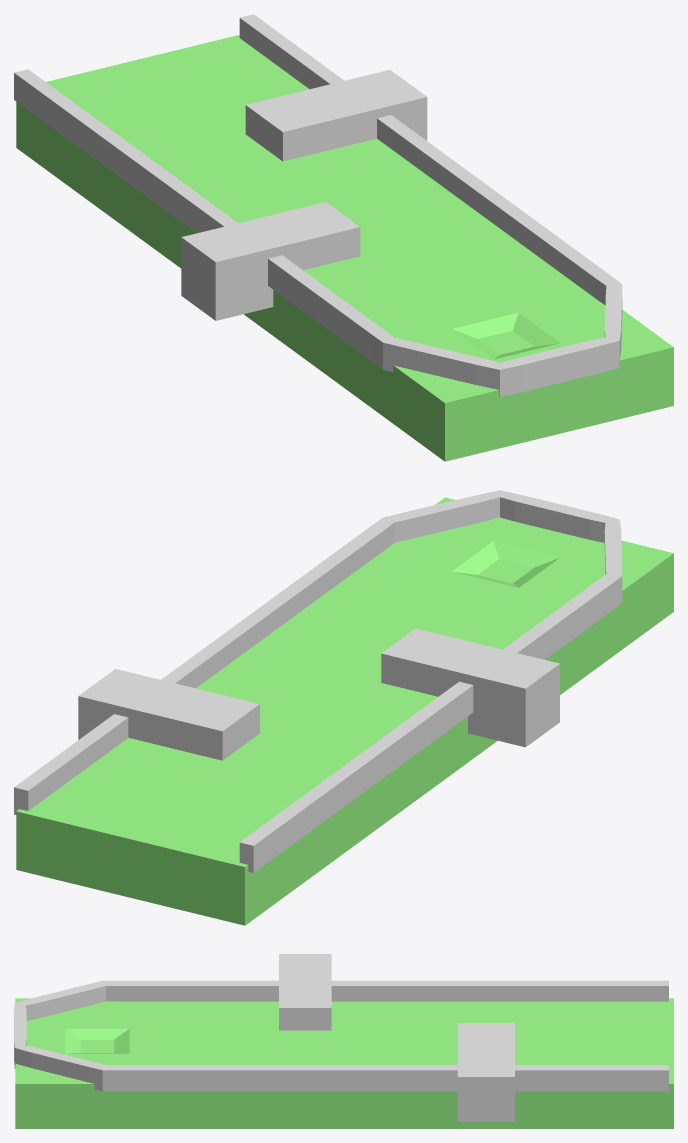
The model's file is level2-col.glb.
3 views of the same model, one above another, from view 1: azimuth 30°, elevation 25°; view 2: azimuth 150°, elevation 25°; view 3: azimuth 270°, elevation 25° (orthographic). The views are drawn at different scales.
Visible parts, largest first — view 1: Cube_level2 -col, Cube.001_level2 -col, Cube.003_level2 -col, Cube.002_level2 -col; view 2: Cube_level2 -col, Cube.001_level2 -col, Cube.003_level2 -col, Cube.002_level2 -col; view 3: Cube_level2 -col, Cube.001_level2 -col, Cube.002_level2 -col, Cube.003_level2 -col.
Part boxes in pixels (x1,y1,x2,y2): Cube_level2 -col: (16, 35, 673, 461); Cube.001_level2 -col: (14, 14, 622, 396); Cube.003_level2 -col: (181, 202, 360, 320); Cube.002_level2 -col: (245, 69, 427, 161); Cube_level2 -col: (16, 497, 673, 925); Cube.001_level2 -col: (14, 490, 622, 872); Cube.003_level2 -col: (381, 628, 559, 747); Cube.002_level2 -col: (78, 669, 259, 760); Cube_level2 -col: (15, 998, 673, 1128); Cube.001_level2 -col: (14, 980, 668, 1091); Cube.002_level2 -col: (457, 1023, 514, 1121); Cube.003_level2 -col: (279, 954, 331, 1030).
Bounding box in the file's own units: 2.87 × 0.7342 × 6.5.
